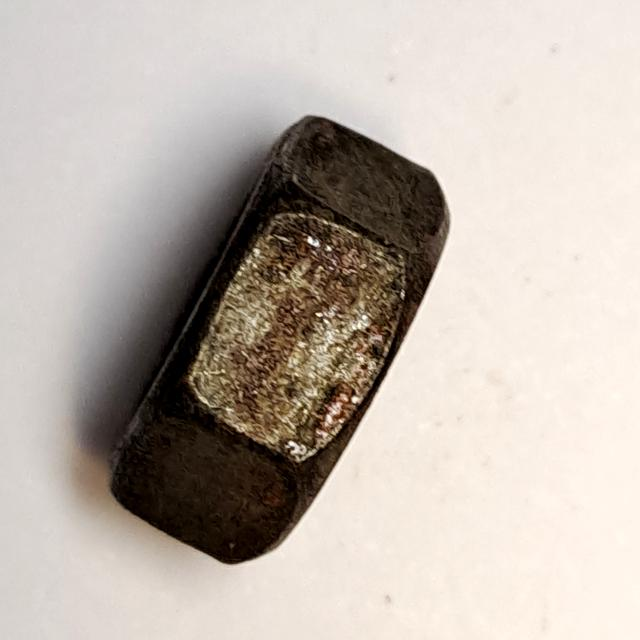Side_Rust: (98, 98, 461, 573)
